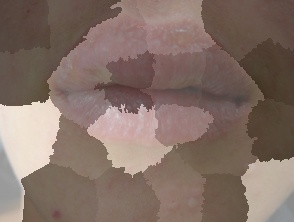SJS-TEN: (40, 9, 268, 100)
